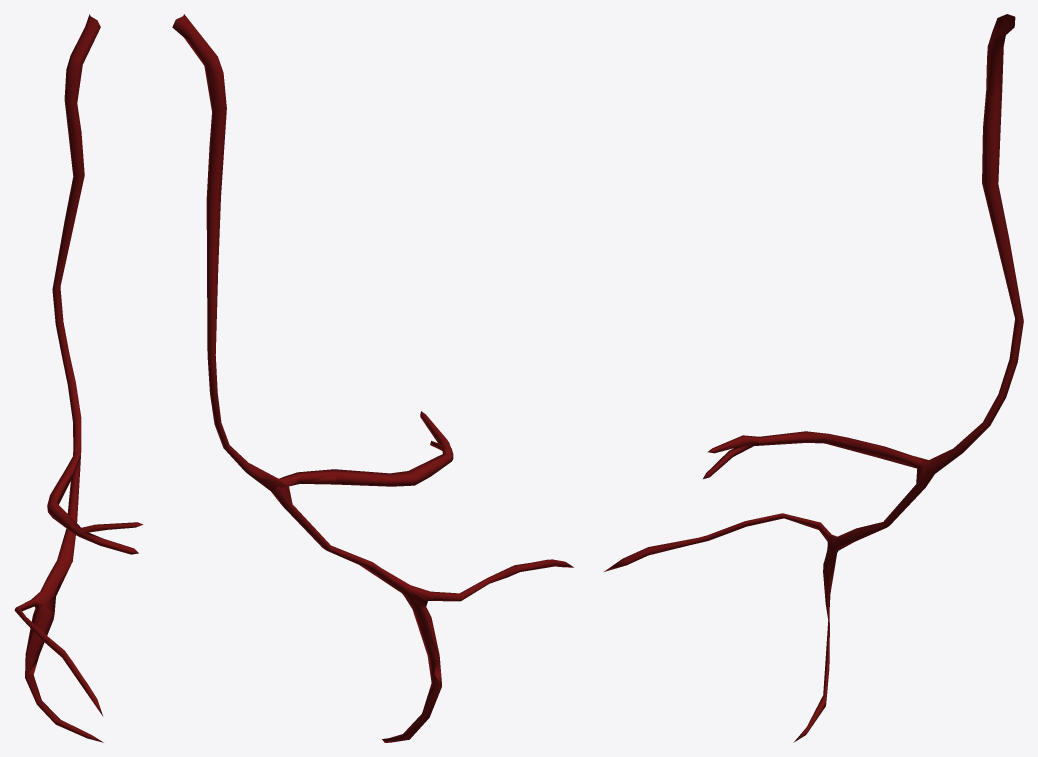
The model's file is R digitales lateralis.fbx.
The picture shows the model from 3 angles, left to right: view 1: azimuth 30°, elevation 25°; view 2: azimuth 150°, elevation 25°; view 3: azimuth 270°, elevation 25°; orthographic projection. The views are drawn at different scales.
Visible parts, largest first — view 1: R digitales lateralis, R digitales lateralis low; view 2: R digitales lateralis, R digitales lateralis low; view 3: R digitales lateralis, R digitales lateralis low.
Part boxes in pixels (x1,y1,x2,y2): R digitales lateralis: (14, 14, 142, 742); R digitales lateralis low: (23, 16, 105, 701); R digitales lateralis: (172, 14, 573, 742); R digitales lateralis low: (183, 17, 566, 685); R digitales lateralis: (604, 14, 1023, 742); R digitales lateralis low: (650, 14, 1017, 653).
Bounding box in the file's own units: 2.71 × 9.96 × 4.91.
